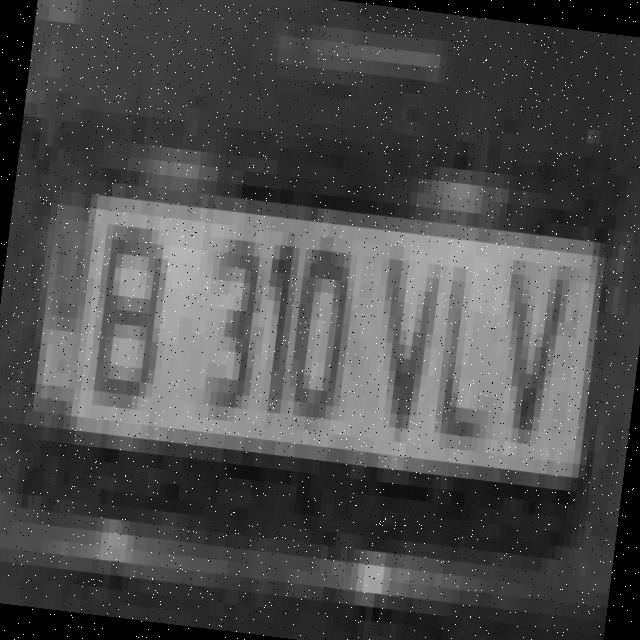Autre: (22, 183, 602, 491)
